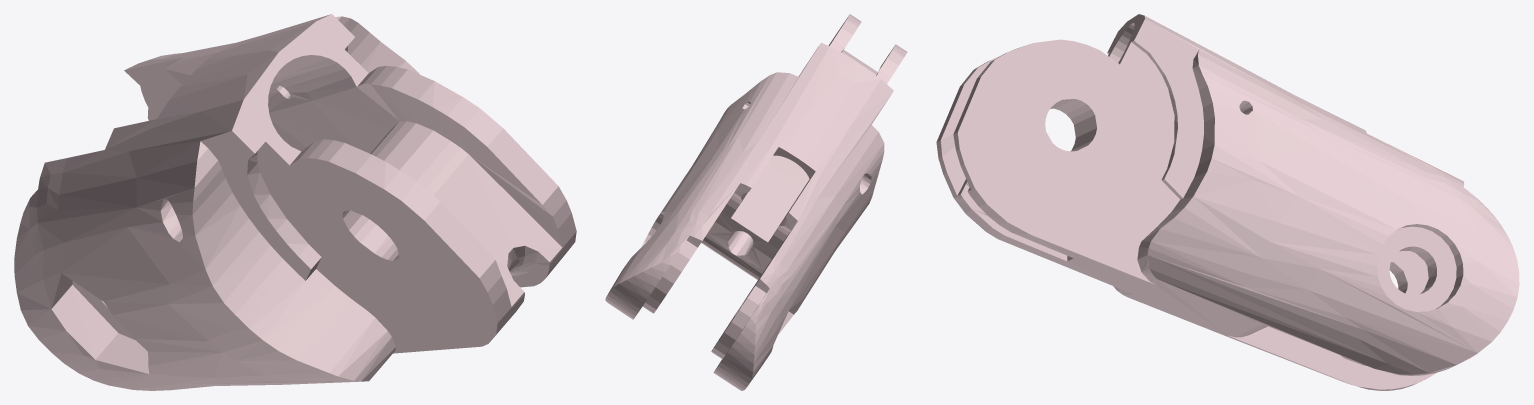
The model's file is i02_rightHand_majeureMid_visual.obj.light.glb.
3 renders of one model, left to right at view 1: azimuth 30°, elevation 25°; view 2: azimuth 150°, elevation 25°; view 3: azimuth 270°, elevation 25°, orthographic. The views are drawn at different scales.
Size of the model in its own units: 0.1774 by 0.2775 by 0.393.
